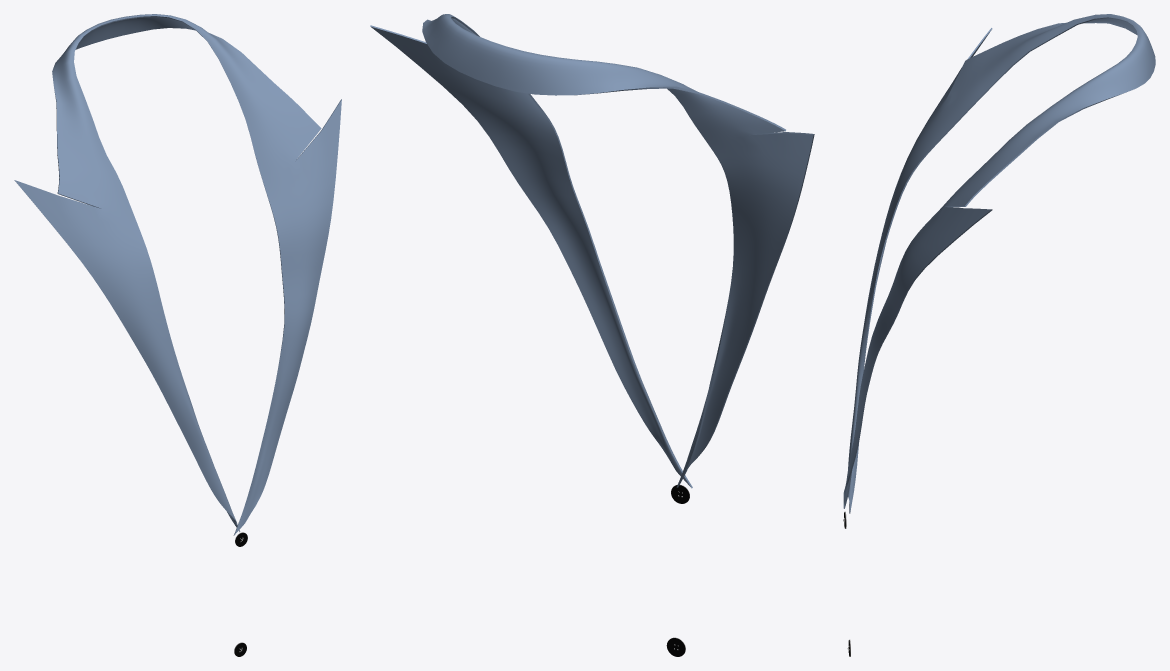
File: SM_CarlosSA_Jacket_SingleBreasted_Lapel_Peak12CM.fbx
3 renders of one model, left to right at view 1: azimuth 30°, elevation 25°; view 2: azimuth 150°, elevation 25°; view 3: azimuth 270°, elevation 25°, orthographic. The views are drawn at different scales.
Parts seen in each view (by area): view 1: SM_CarlosSA_Jacket_SingleBreasted_Lapel_Peak12CM; view 2: SM_CarlosSA_Jacket_SingleBreasted_Lapel_Peak12CM; view 3: SM_CarlosSA_Jacket_SingleBreasted_Lapel_Peak12CM.
Boxes of the visible parts, left/top/right/bottom form: SM_CarlosSA_Jacket_SingleBreasted_Lapel_Peak12CM: left=14, top=14, right=341, bottom=656; SM_CarlosSA_Jacket_SingleBreasted_Lapel_Peak12CM: left=370, top=14, right=814, bottom=656; SM_CarlosSA_Jacket_SingleBreasted_Lapel_Peak12CM: left=843, top=14, right=1155, bottom=656.
Size of the model in its own units: 0.3579 by 0.5674 by 0.2594.
